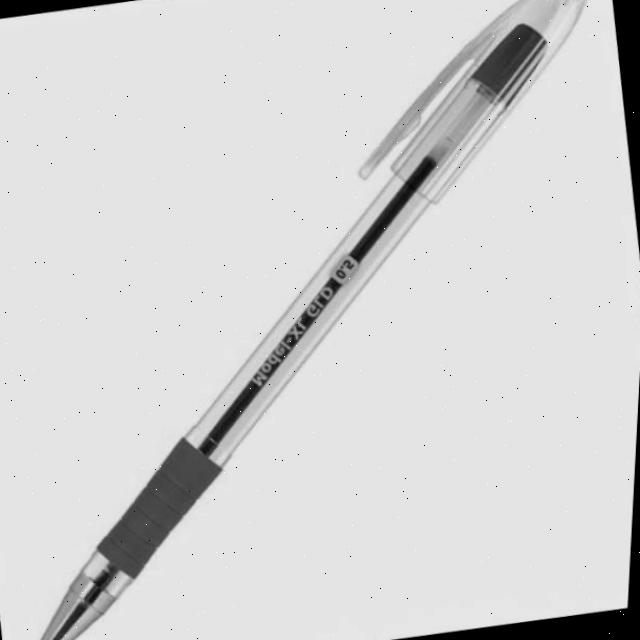pencil: (49, 0, 604, 640)
